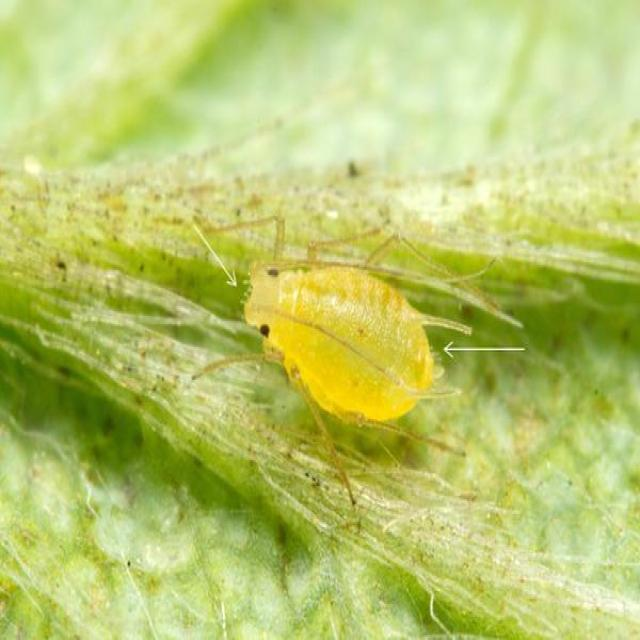aphid: (176, 167, 537, 486)
